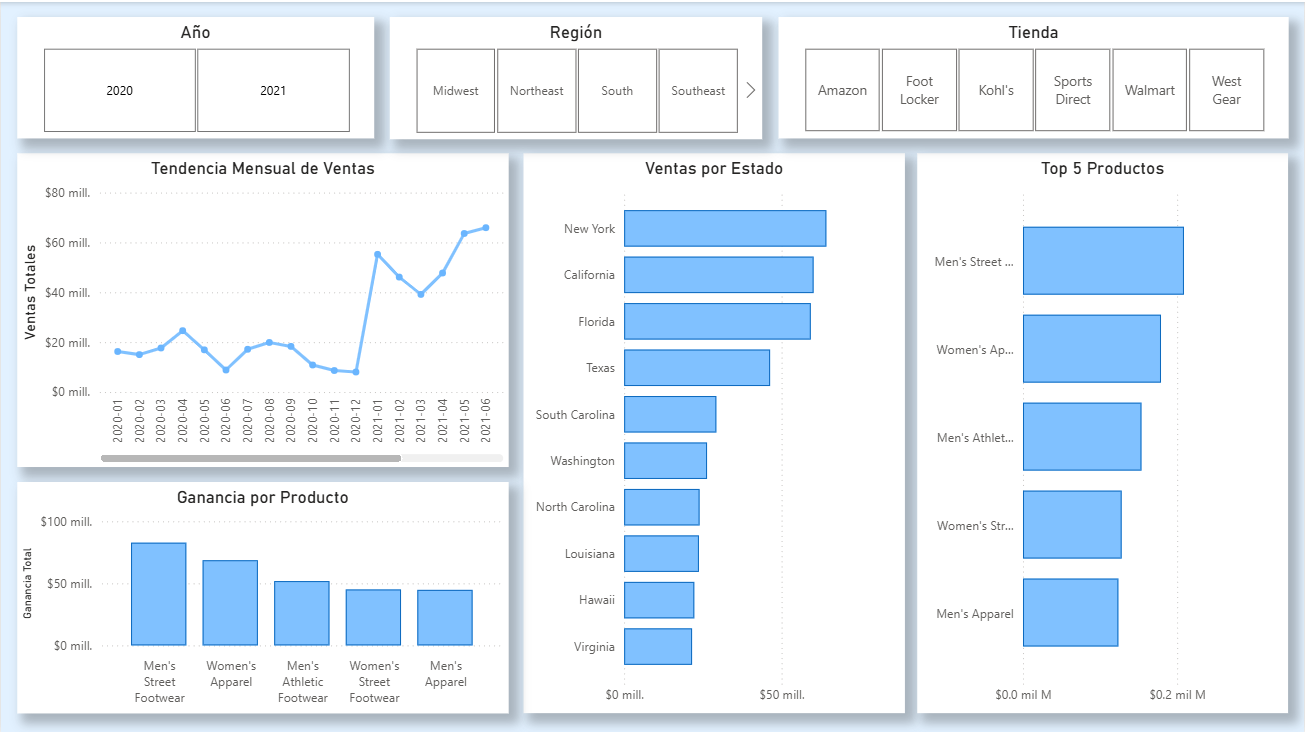

What the dashboard file says about the page in this screenshot:
{"tool":"powerbi","page":{"name":"Análisis de Ventas","canvas":[1280,720],"ordinal":1},"visuals":[{"type":"lineChart","title":"Tendencia Mensual de Ventas","fields":{"Y":["FactSales.Ventas Totales"],"Category":["DimDate.YearMonth"]},"box":[16,148.5,482.2,308],"z":0},{"type":"barChart","title":"Ventas por Estado","fields":{"Category":["DimLocation.State"],"Y":["FactSales.Ventas Totales"]},"box":[512.9,148.5,374.2,549.7],"z":1000},{"type":"barChart","title":"Top 5 Productos","fields":{"Category":["DimProduct.Product"],"Y":["FactSales.Ventas Totales"]},"box":[899.4,148.5,364,549.7],"z":2000},{"type":"columnChart","title":"Ganancia por Producto","fields":{"Category":["DimProduct.Product"],"Y":["FactSales.Ganancia Total"]},"box":[16,471.2,482.2,227],"z":3000},{"type":"slicer","title":"Año","fields":{"Values":["DimDate.Year"]},"box":[16.6,14.8,350,119.4],"z":4000},{"type":"slicer","title":"Región","fields":{"Values":["DimLocation.Region"]},"box":[382.1,14.7,365.6,120.2],"z":5000},{"type":"slicer","title":"Tienda","fields":{"Values":["DimRetailer.Retailer"]},"box":[763.2,14.7,500.6,119],"z":6000}]}

Visuals, with their boxes in screenshot pixels (x1, y1, x2, y2), scaled from the page's 1280x720 canvas onto the 1305x732 screenshot:
"Tendencia Mensual de Ventas" lineChart: bbox=[16, 151, 508, 464]
"Ventas por Estado" barChart: bbox=[523, 151, 904, 710]
"Top 5 Productos" barChart: bbox=[917, 151, 1288, 710]
"Ganancia por Producto" columnChart: bbox=[16, 479, 508, 710]
"Año" slicer: bbox=[17, 15, 374, 136]
"Región" slicer: bbox=[390, 15, 762, 137]
"Tienda" slicer: bbox=[778, 15, 1288, 136]
